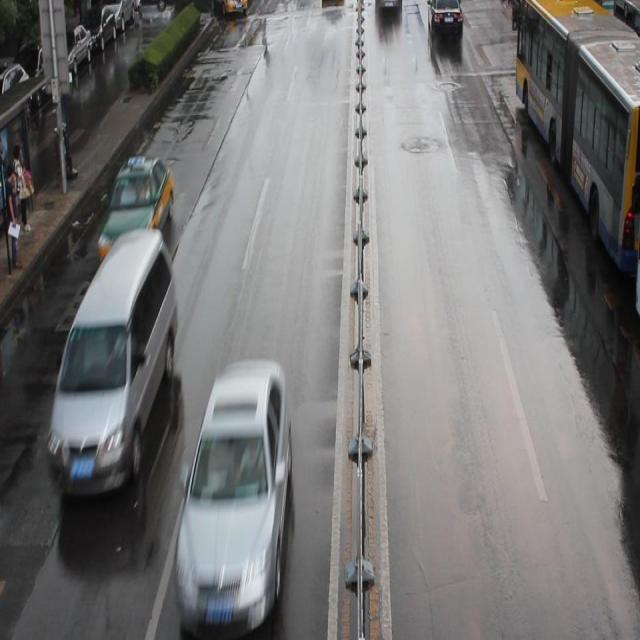car: (174, 358, 292, 610), (97, 157, 174, 266), (428, 1, 462, 36), (223, 1, 249, 14)
truck: (48, 228, 179, 496)
van: (514, 1, 640, 273), (632, 238, 640, 316)
